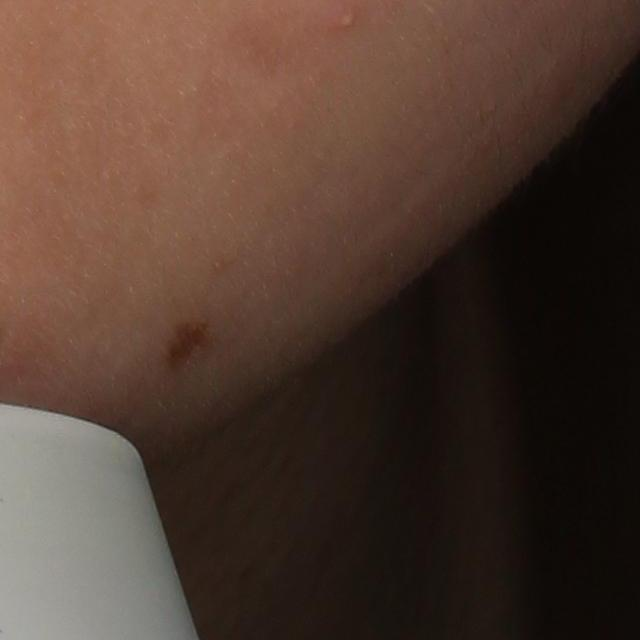nevus: (164, 313, 215, 383)
pustule: (329, 3, 364, 37)
